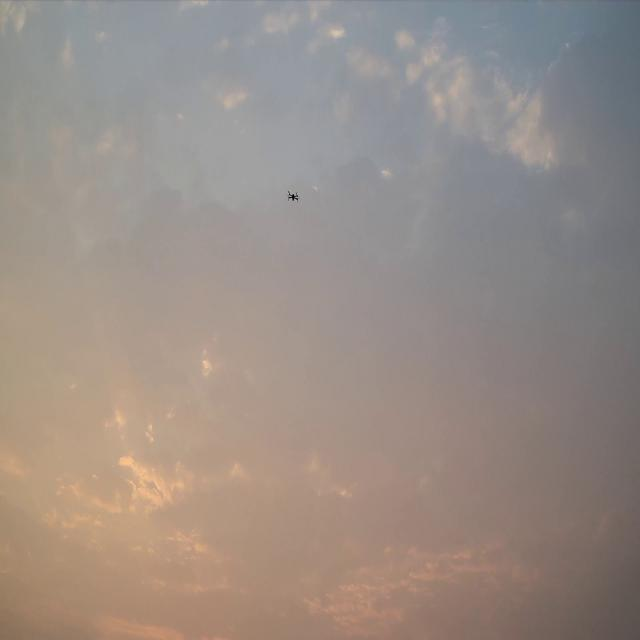drone: (286, 189, 301, 203)
